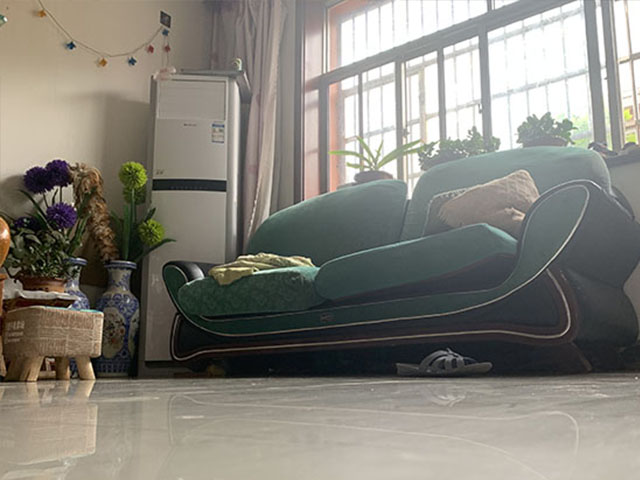slippers: (395, 345, 495, 377)
sofa: (160, 144, 639, 381)
stool: (1, 303, 104, 383)
